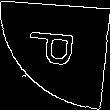P_E: (26, 34, 84, 76)
